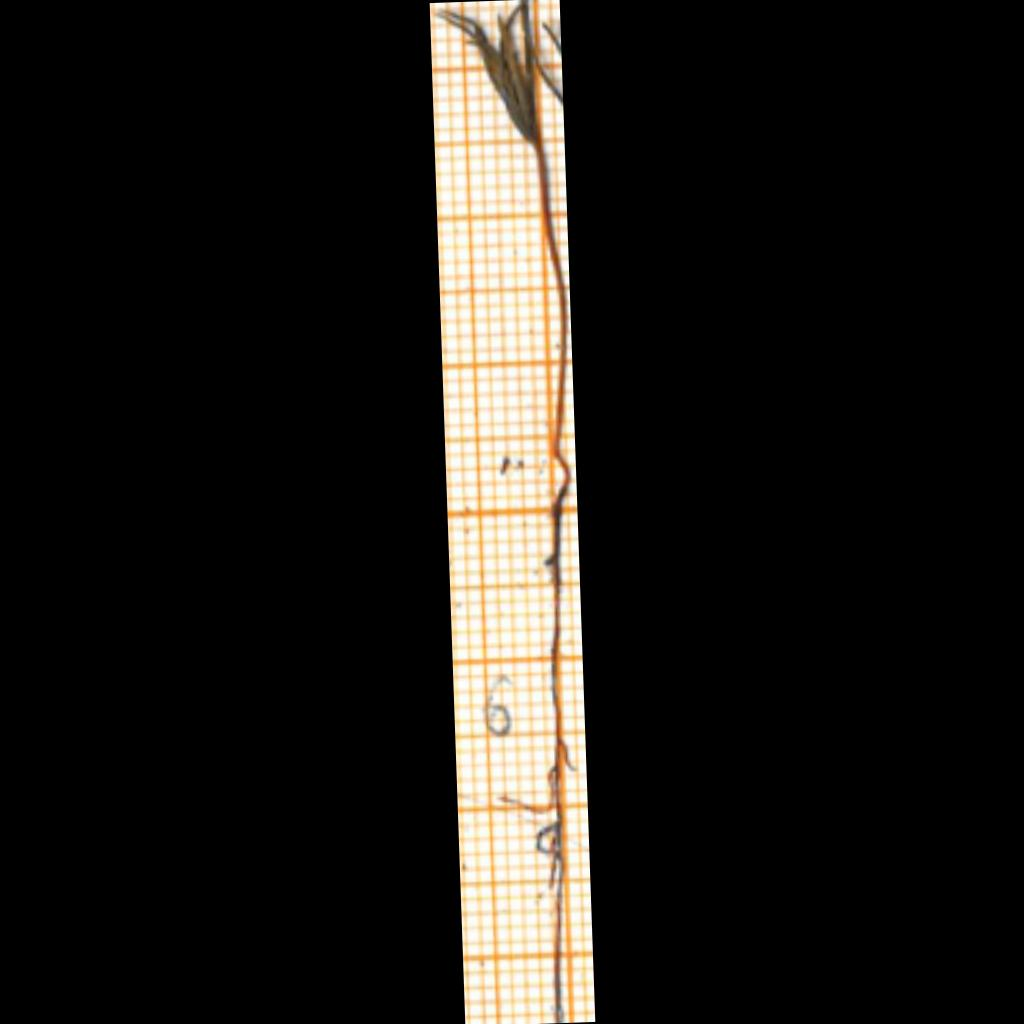flowerPinus: (438, 0, 535, 144)
rootPinus: (508, 463, 574, 1022)
stemPinus: (537, 130, 568, 459)
